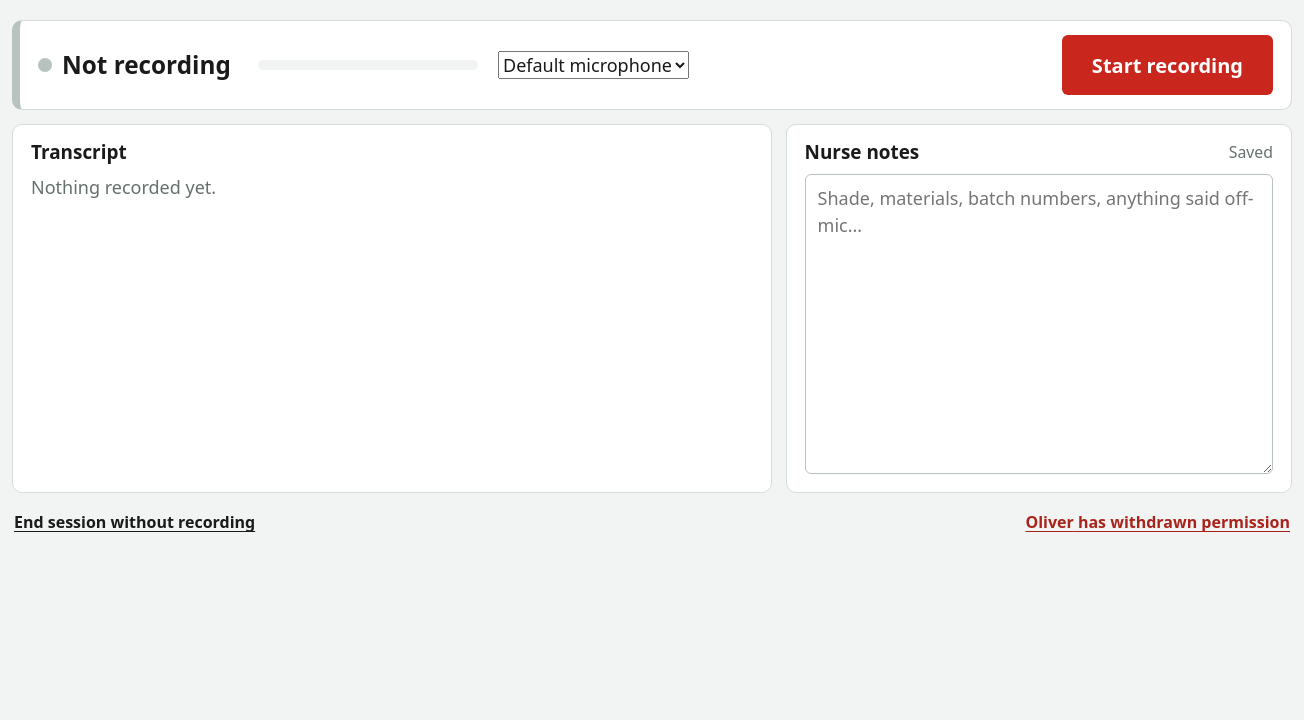
Test: scribe workspace › records only after Start, shows the live transcript, and saves finished lines
Expected: the message reads "Not recording", [62,48,231,81]
Click the button "Start recording" at (1167, 65), box [1062,35,1273,95]
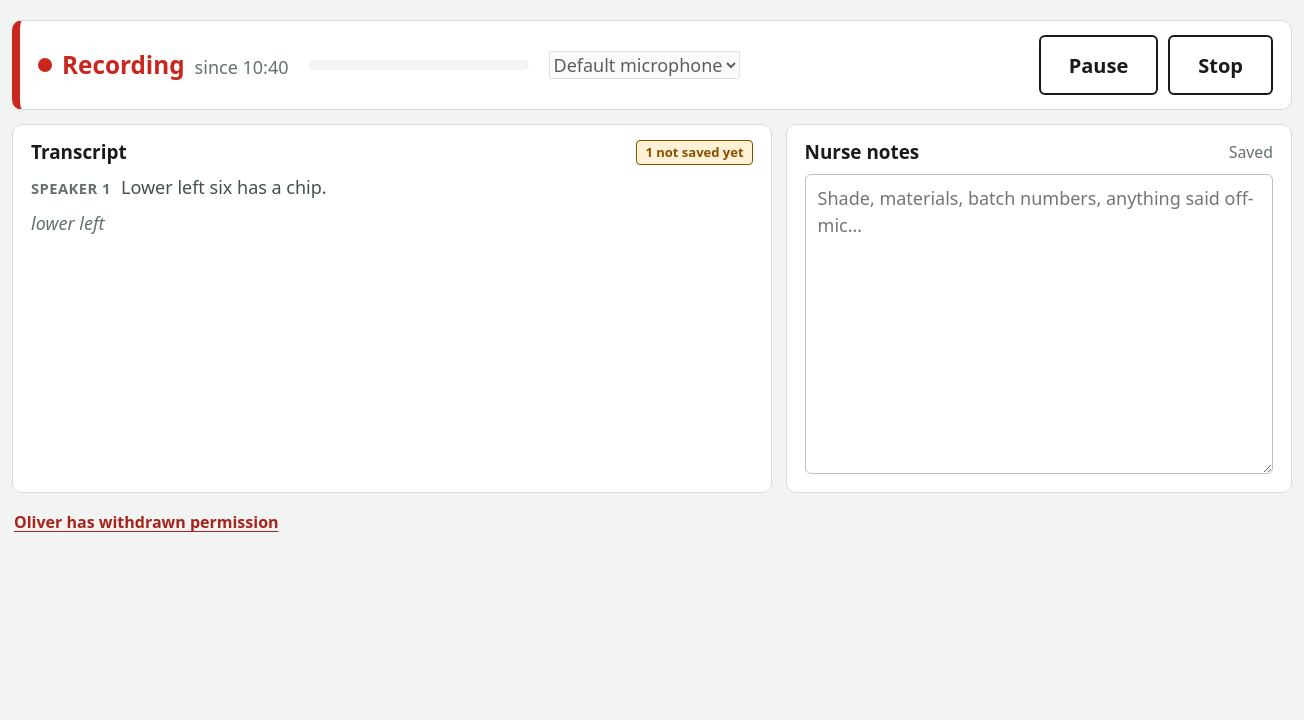
Expected: the message shows "Recording", [62,48,185,81]
Expected: the text "lower left" is shown, [31,211,105,235]
Expected: the text "Lower left six has a chip." is shown, [121,175,327,199]
Click the button "Stop" at (1221, 65), box [1168,35,1273,95]
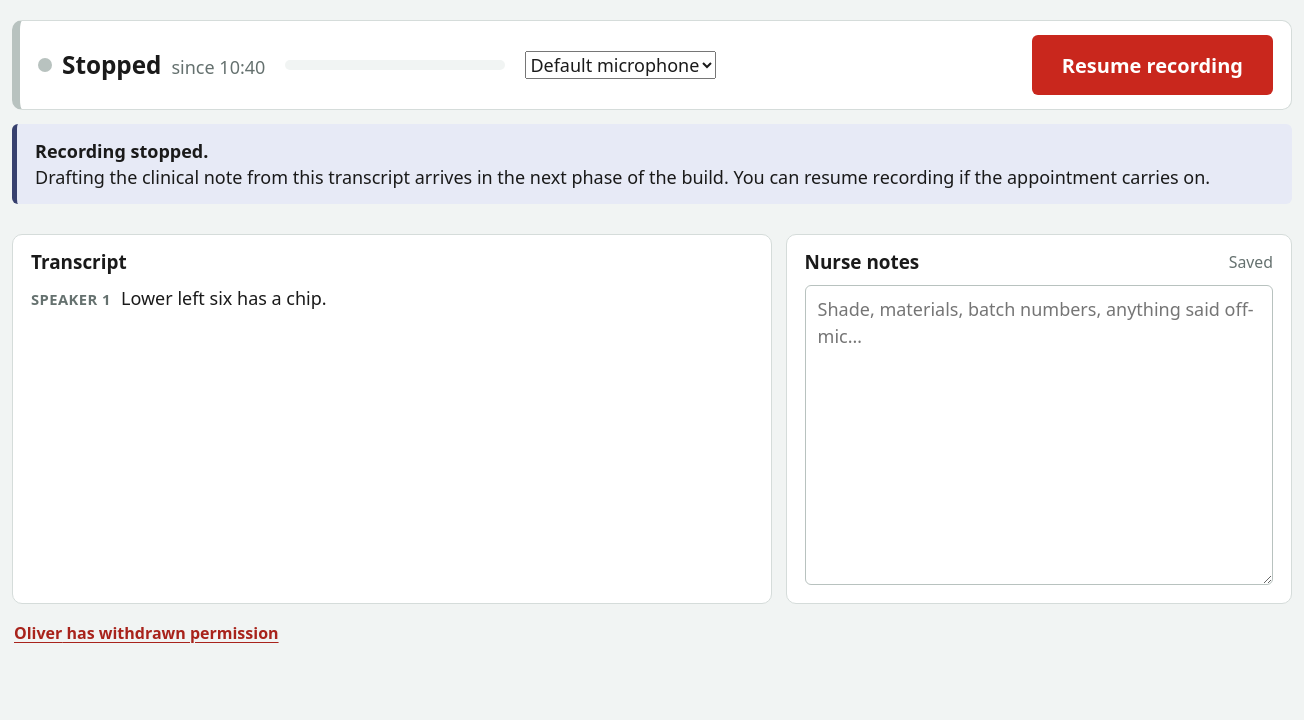
Expected: the message "Stopped since 10:40" is shown, [38,47,265,83]
